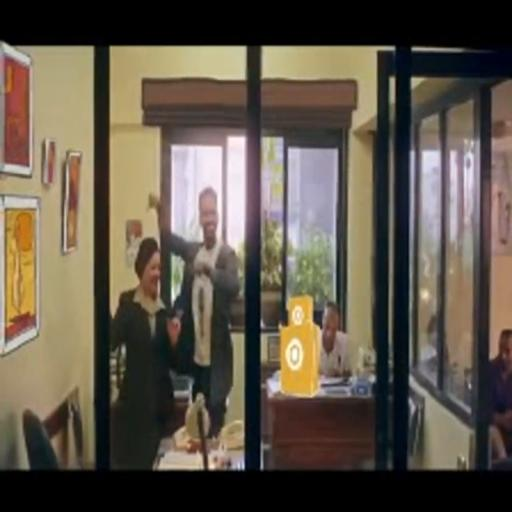nao-violencia: (112, 174, 245, 468)
